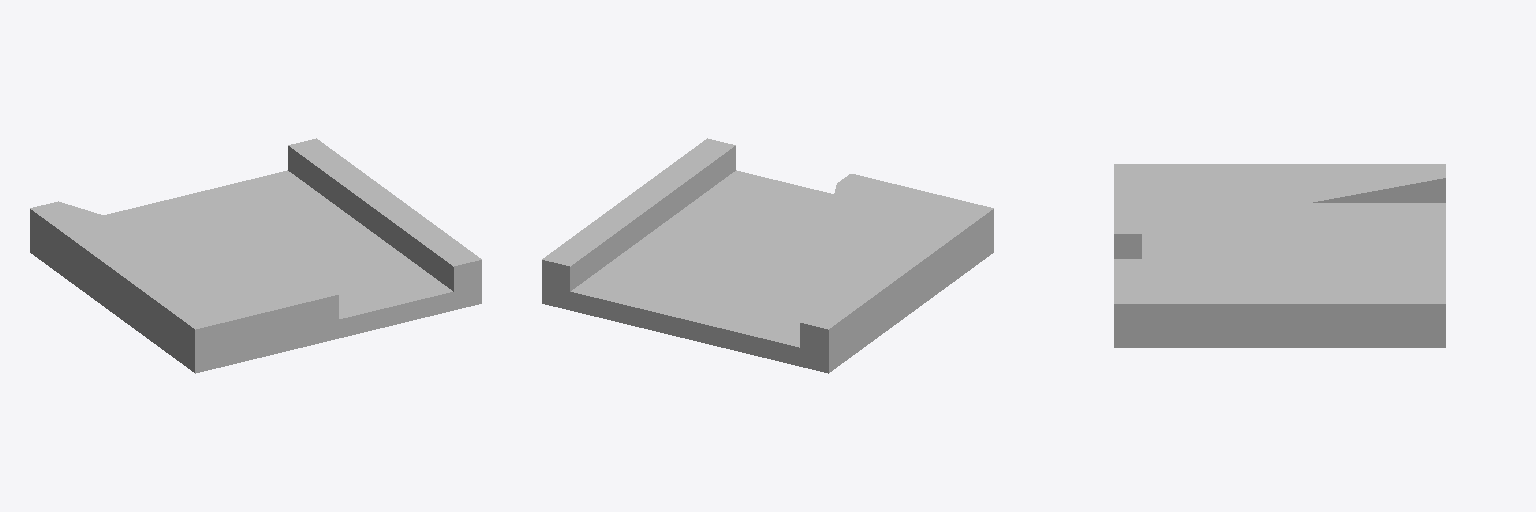
File: Wall_left_01.obj
3 renders of one model, left to right at view 1: azimuth 30°, elevation 25°; view 2: azimuth 150°, elevation 25°; view 3: azimuth 270°, elevation 25°, orthographic.
Visible parts, largest first — view 1: Mesh1 Wall_left Model; view 2: Mesh1 Wall_left Model; view 3: Mesh1 Wall_left Model.
Boxes of the visible parts, x1=… form: Mesh1 Wall_left Model: x1=30, y1=138, x2=481, y2=373; Mesh1 Wall_left Model: x1=542, y1=138, x2=993, y2=373; Mesh1 Wall_left Model: x1=1114, y1=164, x2=1445, y2=347.
Bounding box in the file's own units: 3 × 0.44 × 3.